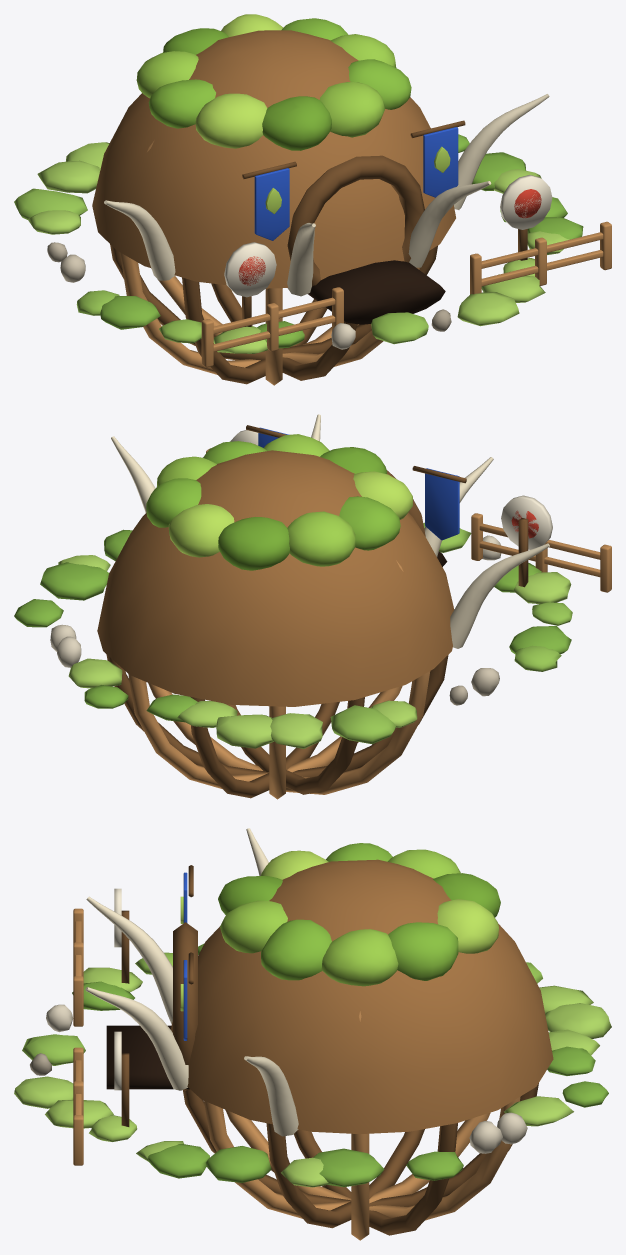
Rendered from b_den.glb.
3 views of the same model, one above another, from view 1: azimuth 30°, elevation 25°; view 2: azimuth 150°, elevation 25°; view 3: azimuth 270°, elevation 25° (orthographic). The views are drawn at different scales.
Parts seen in each view (by area): view 1: dome, root_matte#74502c, root_matte#c08a52, root_matte#a8d060, root_matte#ece0c2, root_matte#9ccc4c, mouth, root_matte#86bc40, root_matte#b6dc5c, root_matte#94c252, root_matte#7fb243, root_matte#76aa36 (+5 smaller); view 2: dome, root_matte#c08a52, root_matte#74502c, root_matte#a8d060, root_matte#7fb243, root_matte#86bc40, root_matte#9ccc4c, root_matte#76aa36, root_matte#b6dc5c, root_matte#ece0c2, root_matte#94c252, root_team (+3 smaller); view 3: dome, root_matte#74502c, root_matte#c08a52, root_matte#a8d060, root_matte#7fb243, root_matte#86bc40, root_matte#9ccc4c, root_matte#ece0c2, root_matte#b6dc5c, root_matte#76aa36, mouth, root_matte#d6ccb6 (+3 smaller).
Boxes of the visible parts, x1,y1,x2,y2 form: dome: (92,30,455,288); root_matte#74502c: (110,120,527,384); root_matte#c08a52: (120,140,611,385); root_matte#a8d060: (27,142,569,353); root_matte#ece0c2: (104,94,549,296); root_matte#9ccc4c: (136,34,396,137); mouth: (308,260,445,324); root_matte#86bc40: (148,18,411,128); root_matte#b6dc5c: (195,14,450,213); root_matte#94c252: (14,188,428,344); root_matte#7fb243: (100,134,583,348); root_matte#76aa36: (163,28,331,150); dome: (97,450,454,706); root_matte#c08a52: (128,448,611,799); root_matte#74502c: (106,425,528,798); root_matte#a8d060: (58,555,571,748); root_matte#7fb243: (14,529,571,722); root_matte#86bc40: (146,441,400,550); root_matte#9ccc4c: (157,434,355,566); root_matte#76aa36: (218,447,387,570); root_matte#b6dc5c: (168,471,412,557); root_matte#ece0c2: (111,414,549,648); root_matte#94c252: (330,522,572,744); root_team: (258,427,459,540); dome: (170,859,553,1134); root_matte#74502c: (121,865,538,1235); root_matte#c08a52: (73,908,520,1240); root_matte#a8d060: (14,967,611,1187); root_matte#7fb243: (72,943,608,1187); root_matte#86bc40: (261,843,458,980); root_matte#9ccc4c: (220,849,460,986); root_matte#ece0c2: (85,828,298,1136); root_matte#b6dc5c: (180,850,498,1011); root_matte#76aa36: (218,873,500,917); mouth: (106,1025,189,1089); root_matte#d6ccb6: (46,1004,527,1153).
Bounding box in the file's own units: 3.15 × 2.05 × 3.18.
